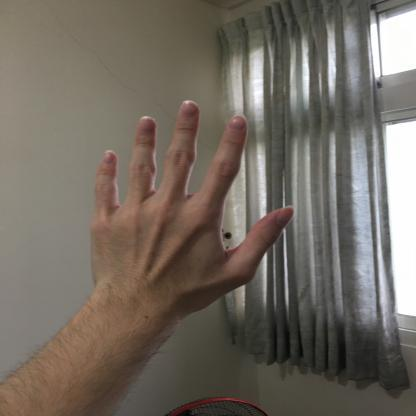bare_hand: (79, 89, 306, 329)
